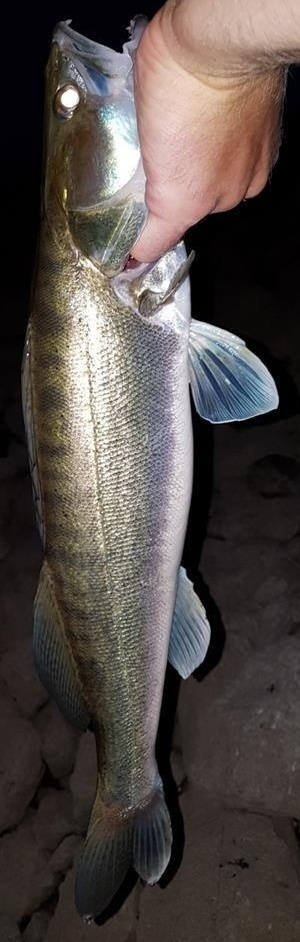Sander lucioperca: (20, 20, 280, 922)
